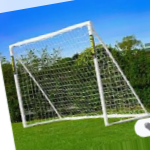goals: (4, 19, 150, 130)
